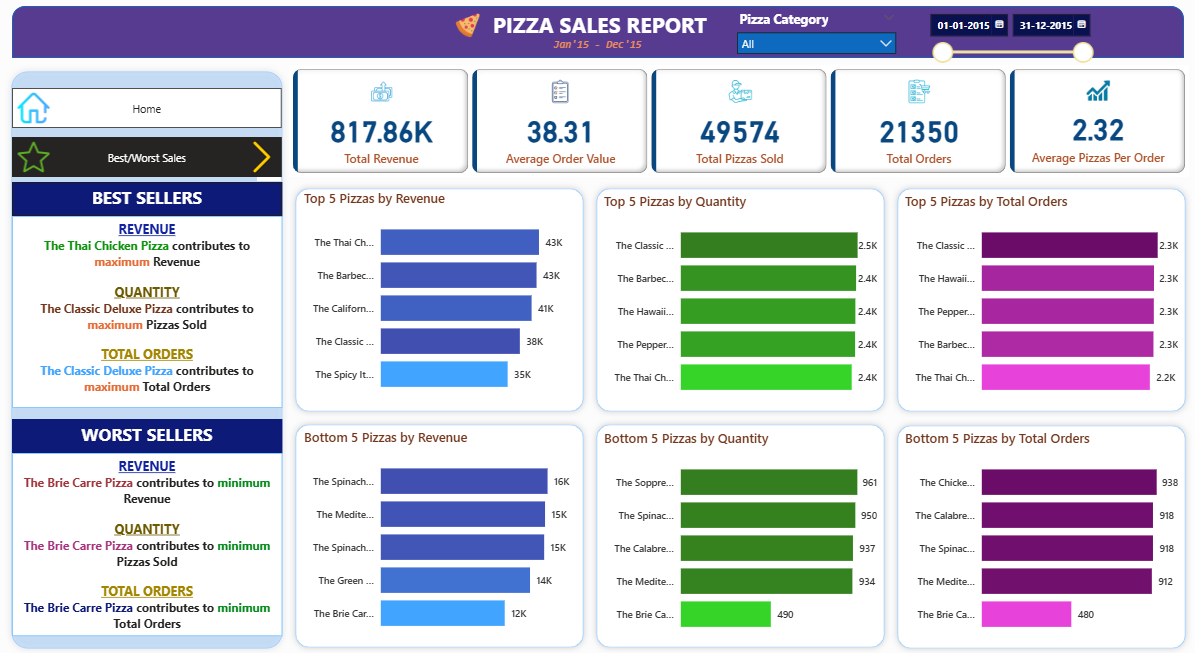

Layout of this report page (visuals, bound fields, positions):
{"tool":"powerbi","page":{"name":"Best/Worst Sales","canvas":[1500,820],"ordinal":1},"visuals":[{"type":"cardVisual","fields":{"Data":["pizza_sales.Total Revenue","pizza_sales.Average Order Value","pizza_sales.Total Pizzas Sold","pizza_sales.Total Orders","pizza_sales.Average Pizzas Per Order"]},"box":[363.8,82.5,1125,140],"z":0},{"type":"shape","box":[17.5,8.8,1465,65],"z":1000},{"type":"textbox","box":[675,42.5,148.8,32.5],"z":2000},{"type":"image","box":[558.8,12.5,57.5,41.2],"z":3000},{"type":"textbox","box":[607.5,8.8,290,50],"z":4000},{"type":"shape","box":[363.8,523.8,376.2,295],"z":5000},{"type":"shape","box":[8.8,82.5,355,737.5],"z":6000},{"type":"textbox","box":[17.5,228.8,337.5,42.5],"z":7000},{"type":"textbox","box":[17.5,271.2,337.5,240],"z":8000},{"type":"textbox","box":[17.5,525,337.5,42.5],"z":9000},{"type":"textbox","box":[17.5,567.5,337.5,228.8],"z":10000},{"type":"slicer","fields":{"Values":["pizza_sales.pizza_category"]},"box":[913.8,8.8,218.8,65],"z":11000},{"type":"slicer","fields":{"Values":["pizza_sales.order_date"]},"box":[1152.5,8.8,225,73.8],"z":12000},{"type":"shape","box":[363.8,228.8,376.2,295],"z":13000},{"type":"shape","box":[1116.2,525,376.2,295],"z":14000},{"type":"shape","box":[1116.2,228.8,376.2,295],"z":15000},{"type":"shape","box":[740,228.8,376.2,295],"z":16000},{"type":"shape","box":[740,523.8,376.2,295],"z":17000},{"type":"barChart","title":"Top 5 Pizzas by Revenue","fields":{"Category":["pizza_sales.pizza_name"],"Y":["pizza_sales.Total Revenue"]},"box":[377.5,237.5,353.8,270],"z":18000},{"type":"barChart","title":"Bottom 5 Pizzas by Revenue","fields":{"Category":["pizza_sales.pizza_name"],"Y":["pizza_sales.Total Revenue"]},"box":[377.5,536.2,353.8,270],"z":19000},{"type":"barChart","title":"Top 5 Pizzas by Quantity","fields":{"Category":["pizza_sales.pizza_name"],"Y":["pizza_sales.Total Pizzas Sold"]},"box":[752.5,241.2,351.2,270],"z":20000},{"type":"barChart","title":"Bottom 5 Pizzas by Quantity","fields":{"Category":["pizza_sales.pizza_name"],"Y":["pizza_sales.Total Pizzas Sold"]},"box":[752.5,537.5,351.2,270],"z":21000},{"type":"barChart","title":"Top 5 Pizzas by Total Orders","fields":{"Category":["pizza_sales.pizza_name"],"Y":["pizza_sales.Total Orders"]},"box":[1128.8,241.2,351.2,270],"z":22000},{"type":"barChart","title":"Bottom 5 Pizzas by Total Orders","fields":{"Category":["pizza_sales.pizza_name"],"Y":["pizza_sales.Total Orders"]},"box":[1128.8,537.5,351.2,270],"z":23000},{"type":"pageNavigator","box":[17.5,172.5,337.5,50],"z":24000},{"type":"pageNavigator","box":[17.5,111.2,337.5,50],"z":25000},{"type":"image","box":[303.8,172.5,51.2,50],"z":26000},{"type":"image","box":[17.5,111.2,53.8,50],"z":27000},{"type":"image","box":[17.5,172.5,53.8,50],"z":28000}]}

Visuals, with their boxes in screenshot pixels (x1, y1, x2, y2), scaled from the page's 1500x820 canvas onto the 1195x653 screenshot:
cardVisual - pizza_sales.Total Revenue x pizza_sales.Average Order Value: (290, 66, 1186, 177)
shape: (14, 7, 1181, 59)
textbox: (538, 34, 656, 60)
image: (445, 10, 491, 43)
textbox: (484, 7, 715, 47)
shape: (290, 417, 590, 652)
shape: (7, 66, 290, 652)
textbox: (14, 182, 283, 216)
textbox: (14, 216, 283, 407)
textbox: (14, 418, 283, 452)
textbox: (14, 452, 283, 634)
slicer - pizza_sales.pizza_category: (728, 7, 902, 59)
slicer - pizza_sales.order_date: (918, 7, 1097, 66)
shape: (290, 182, 590, 417)
shape: (889, 418, 1189, 652)
shape: (889, 182, 1189, 417)
shape: (590, 182, 889, 417)
shape: (590, 417, 889, 652)
"Top 5 Pizzas by Revenue" barChart: (301, 189, 583, 404)
"Bottom 5 Pizzas by Revenue" barChart: (301, 427, 583, 642)
"Top 5 Pizzas by Quantity" barChart: (599, 192, 879, 407)
"Bottom 5 Pizzas by Quantity" barChart: (599, 428, 879, 643)
"Top 5 Pizzas by Total Orders" barChart: (899, 192, 1179, 407)
"Bottom 5 Pizzas by Total Orders" barChart: (899, 428, 1179, 643)
pageNavigator: (14, 137, 283, 177)
pageNavigator: (14, 89, 283, 128)
image: (242, 137, 283, 177)
image: (14, 89, 57, 128)
image: (14, 137, 57, 177)
